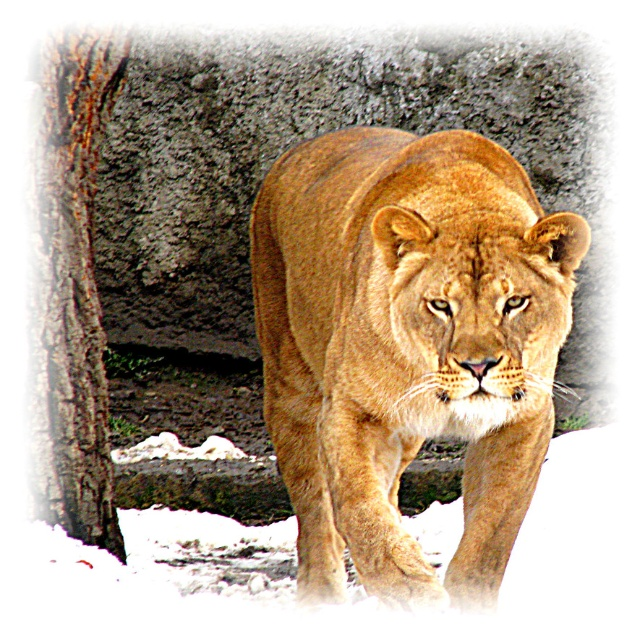Lion: (251, 126, 595, 609)
